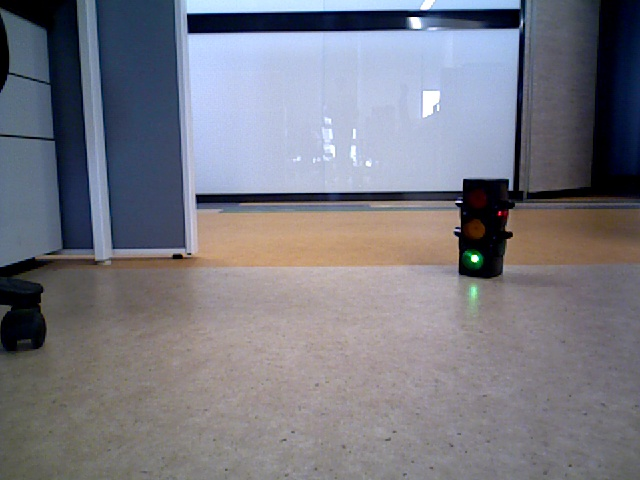green: (459, 181, 503, 270)
